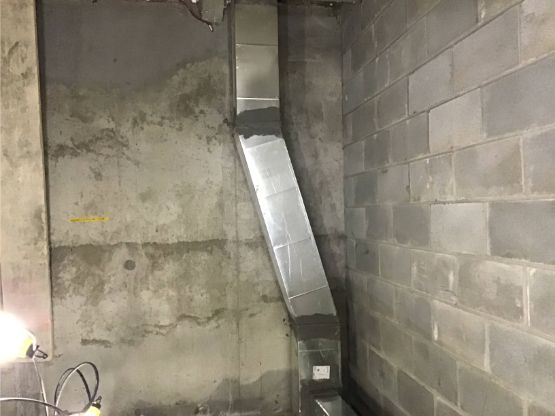Duct: (224, 1, 369, 411)
